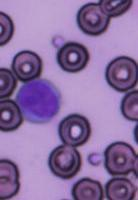L: (15, 77, 62, 123)
